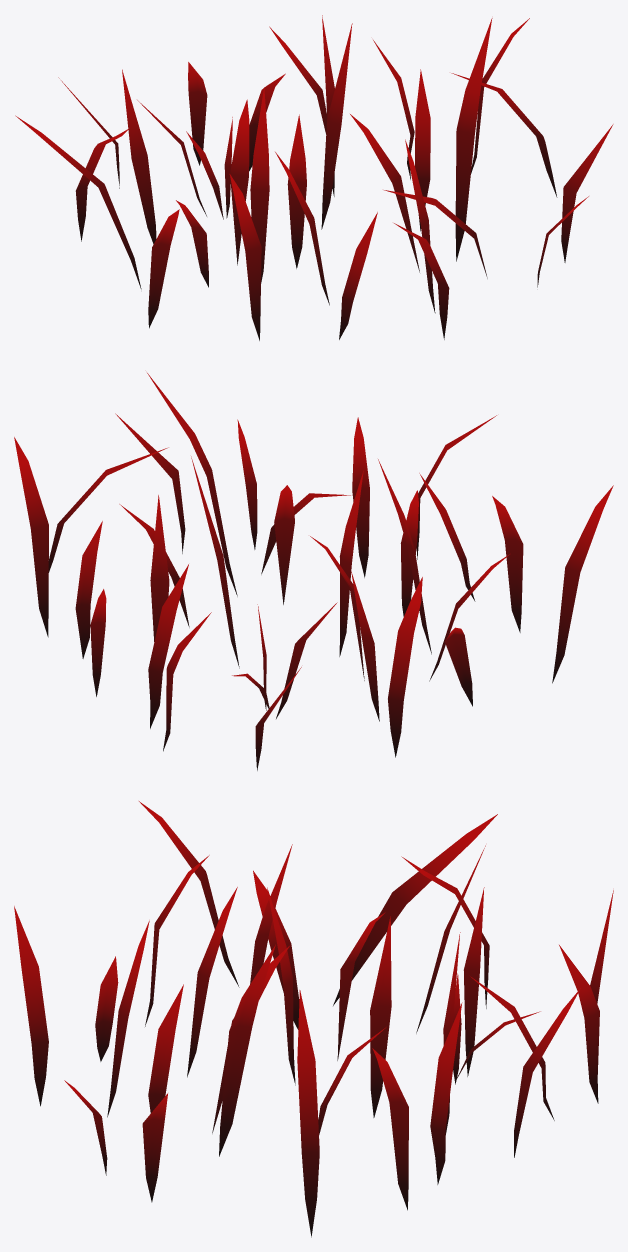
File: HierbaSacada.fbx
The picture shows the model from 3 angles, top to bottom: view 1: azimuth 30°, elevation 25°; view 2: azimuth 150°, elevation 25°; view 3: azimuth 270°, elevation 25°; orthographic projection. The views are drawn at different scales.
Parts seen in each view (by area): view 1: Hierba; view 2: Hierba; view 3: Hierba.
Part boxes in pixels (box(x1,y1,x2,y2)): Hierba: box(15, 15, 613, 340); Hierba: box(14, 373, 613, 770); Hierba: box(14, 801, 613, 1237).
Size of the model in its own units: 2.92 by 1.29 by 2.82.
